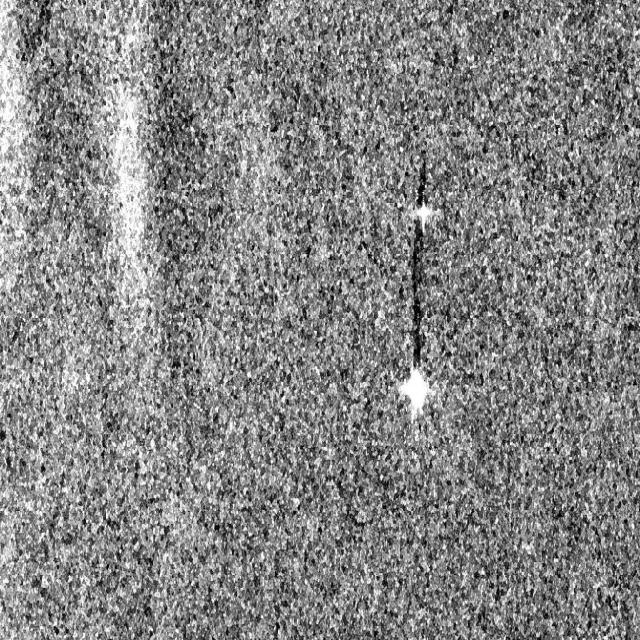oil-spill: (404, 234, 434, 370), (413, 148, 430, 203)
ship: (395, 363, 432, 427), (413, 202, 430, 229)
